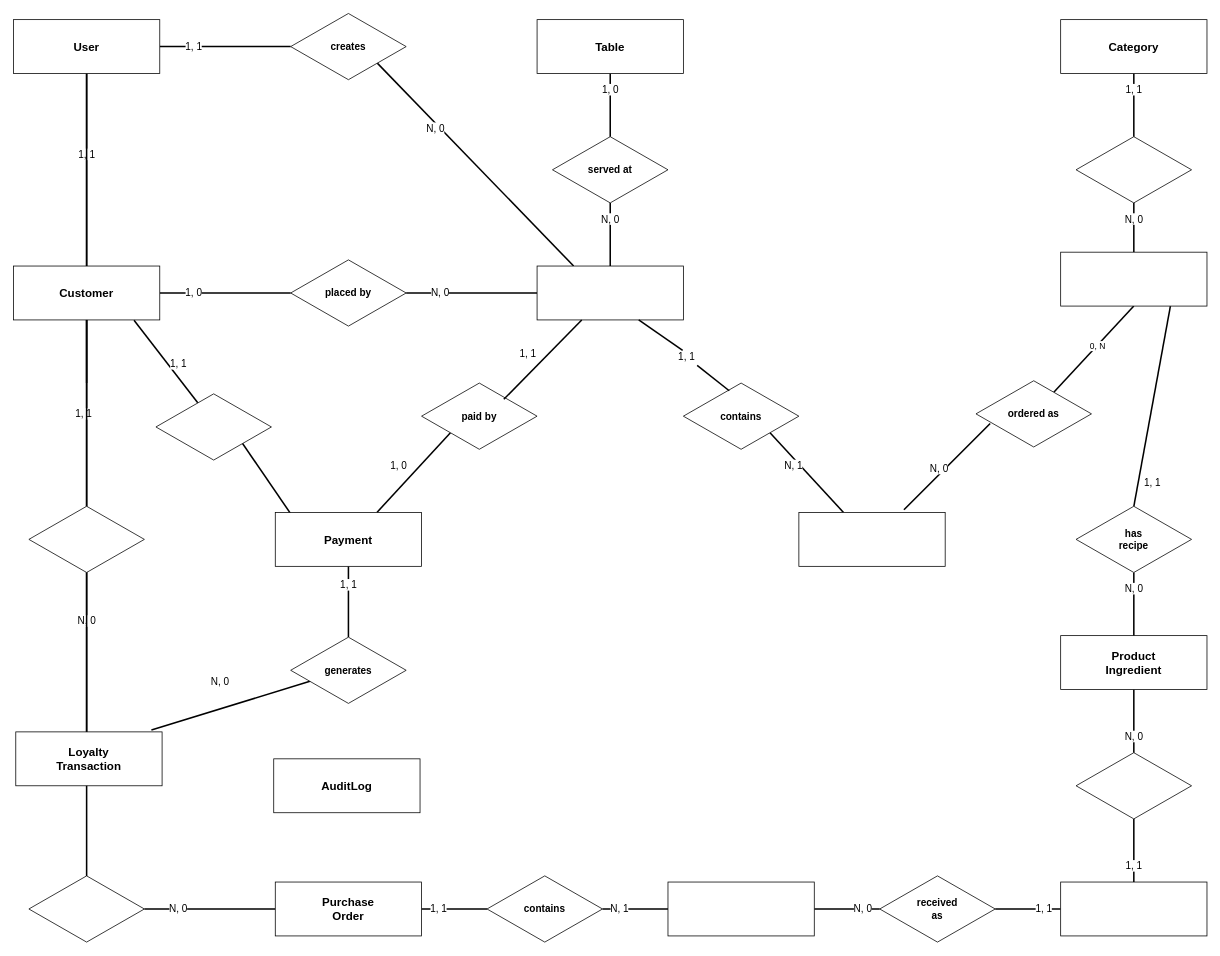
Image size: 1220x956. Some labels were removed from this diagram. The shapes that lost their labels are listed below. From the top down, each one's centre as x and y in pixels, then its label:
(x=1133, y=169): classifies
(x=609, y=292): Order
(x=1133, y=278): Product
(x=213, y=426): processes
(x=86, y=539): earns / redeems
(x=871, y=539): OrderItem
(x=1133, y=785): used in
(x=86, y=908): raises
(x=740, y=908): StockIn
(x=1133, y=908): Ingredient
